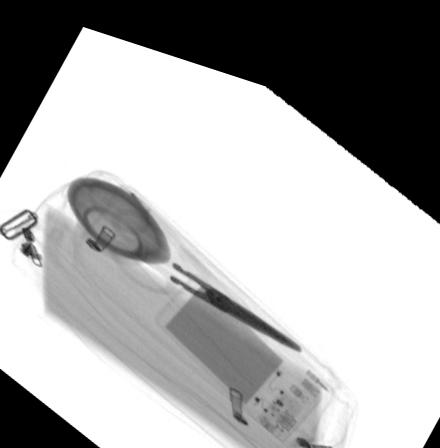Powerbank: (154, 256, 322, 425)
Scissors: (107, 204, 303, 334)
